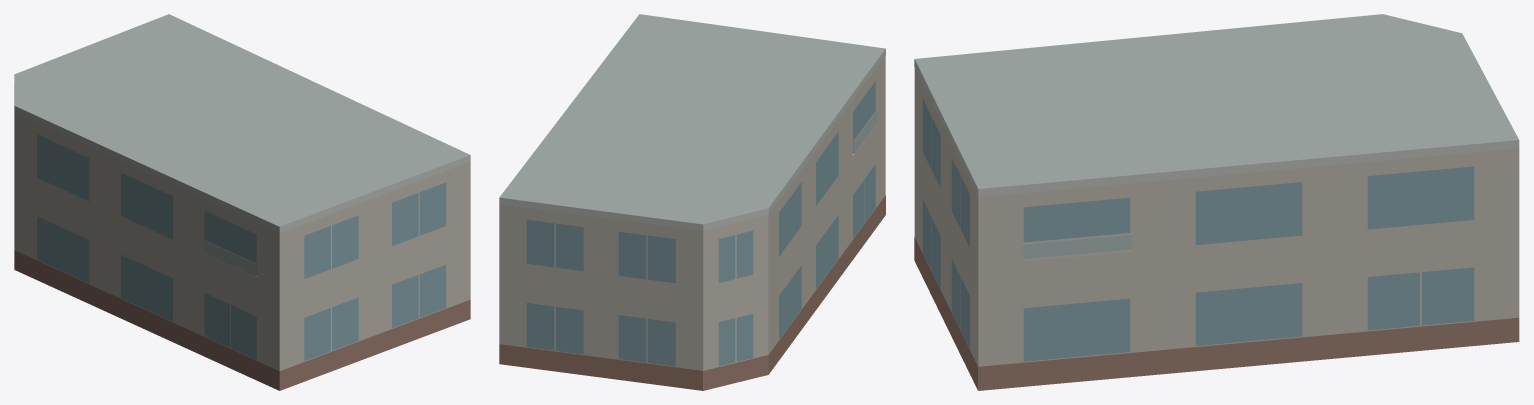
Rendered from survey-upis-32794945.glb.
3 views of the same model, side by side, from view 1: azimuth 30°, elevation 25°; view 2: azimuth 150°, elevation 25°; view 3: azimuth 270°, elevation 25° (orthographic). The views are drawn at different scales.
Visible parts, largest first — view 1: survey-upis-32794945.tmp; view 2: survey-upis-32794945.tmp; view 3: survey-upis-32794945.tmp.
Boxes of the visible parts, bbox=[...] form: survey-upis-32794945.tmp: bbox=[14, 14, 470, 390]; survey-upis-32794945.tmp: bbox=[499, 14, 885, 390]; survey-upis-32794945.tmp: bbox=[914, 14, 1519, 390].
Size of the model in its own units: 11.36 by 6.1 by 16.58.
